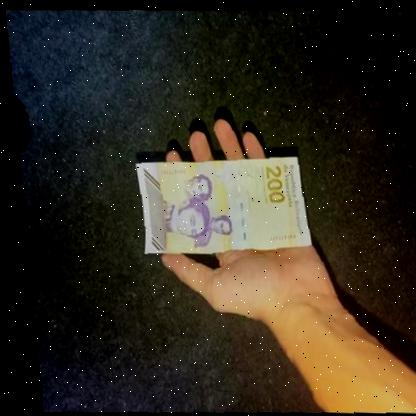two_hundred-front-vef: (129, 148, 310, 259)
